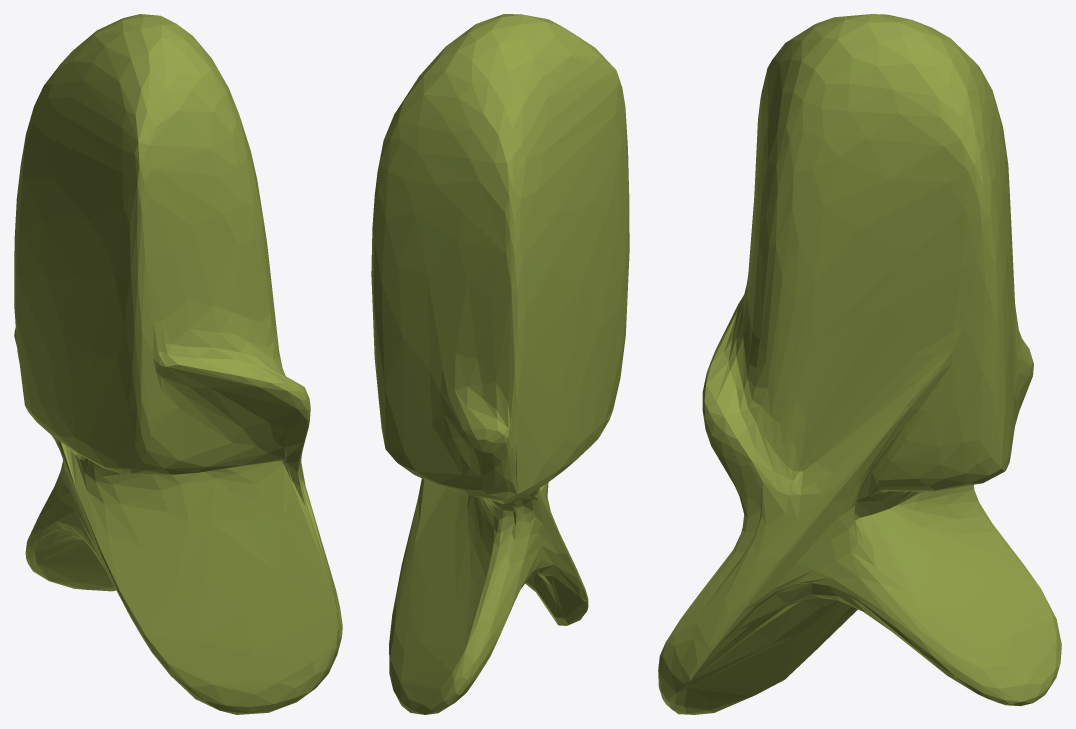
3 views of the same model, side by side, from view 1: azimuth 30°, elevation 25°; view 2: azimuth 150°, elevation 25°; view 3: azimuth 270°, elevation 25° (orthographic). The views are drawn at different scales.
Parts seen in each view (by area): view 1: 065_Cube.265; view 2: 065_Cube.265; view 3: 065_Cube.265.
Part boxes in pixels (bbox=[...]): 065_Cube.265: bbox=[14, 14, 342, 714]; 065_Cube.265: bbox=[371, 14, 629, 714]; 065_Cube.265: bbox=[658, 14, 1061, 714].
Size of the model in its own units: 5.18 by 17.18 by 9.19.
